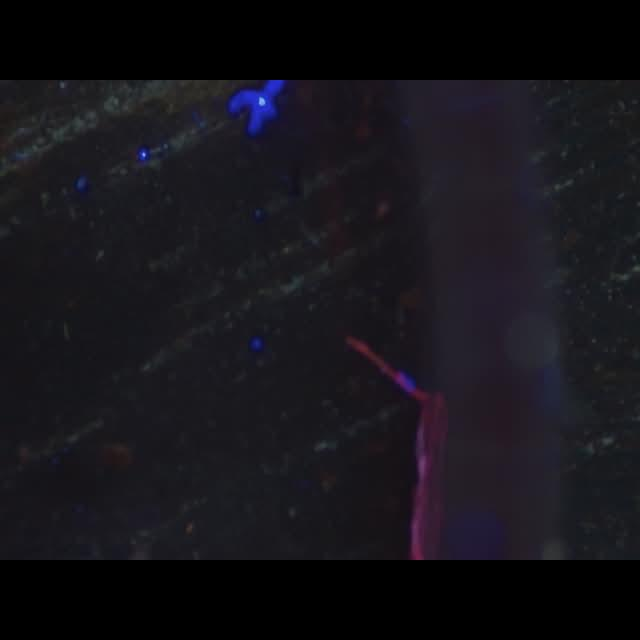Fibre: (344, 334, 428, 404)
